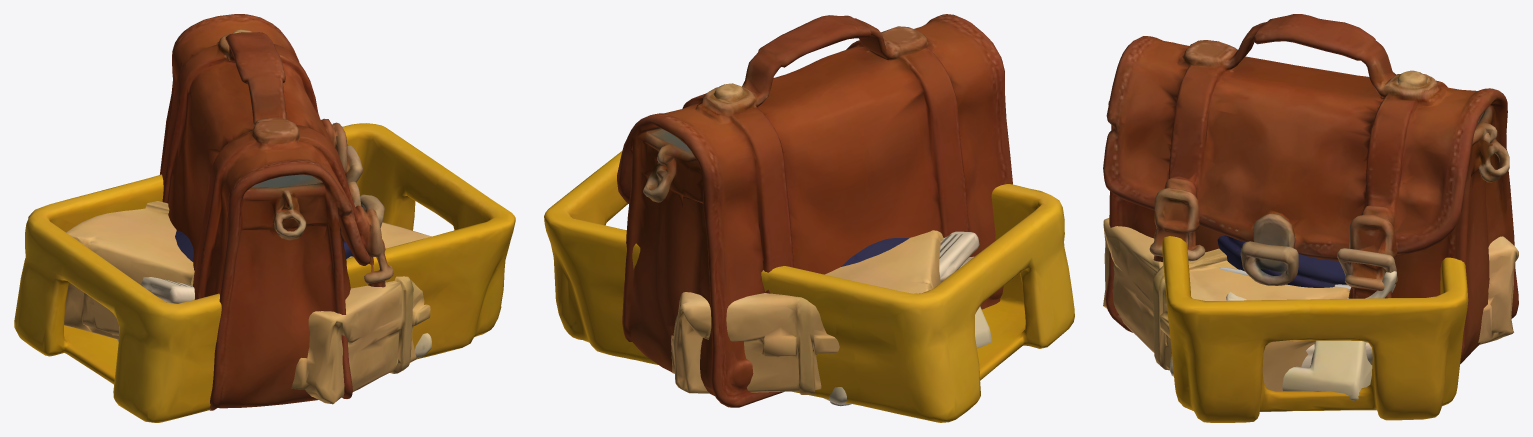
File: poste.glb
The picture shows the model from 3 angles, left to right: view 1: azimuth 30°, elevation 25°; view 2: azimuth 150°, elevation 25°; view 3: azimuth 270°, elevation 25°; orthographic projection. The views are drawn at different scales.
Visible parts, largest first — view 1: sacoche-facteur, bac-courrier, colis, journal-plie; view 2: sacoche-facteur, bac-courrier, colis, journal-plie, balance-colis, casquette-facteur; view 3: sacoche-facteur, bac-courrier, colis, balance-colis, casquette-facteur, journal-plie.
Boxes of the visible parts, x1,y1,x2,y2 form: sacoche-facteur: (160, 14, 393, 410); bac-courrier: (14, 123, 515, 422); colis: (64, 201, 431, 404); journal-plie: (141, 242, 410, 303); sacoche-facteur: (617, 14, 1012, 407); bac-courrier: (544, 150, 1074, 422); colis: (671, 230, 943, 394); journal-plie: (939, 231, 979, 282); balance-colis: (824, 306, 992, 406); casquette-facteur: (841, 238, 909, 266); sacoche-facteur: (1103, 14, 1518, 364); bac-courrier: (1162, 236, 1468, 422); colis: (1103, 218, 1518, 391); balance-colis: (1170, 267, 1372, 400); casquette-facteur: (1217, 235, 1347, 287); journal-plie: (1226, 271, 1396, 367).
Size of the model in its own units: 0.4496 by 0.3289 by 0.4.
4 materials, 4 textured.
